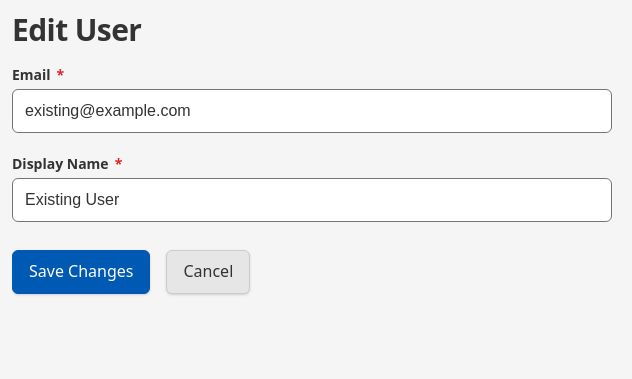
Test case: UserEditPage › displays validation error on update failure (400)
Note: Update email
Replace the text in the field labelled "Email *" with "duplicate@example.com" at (312, 111), box [12,89,612,133]
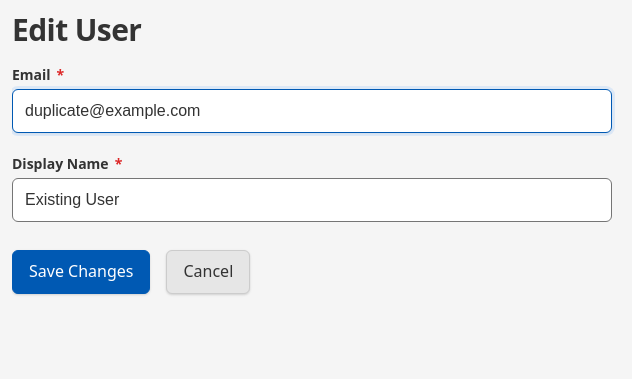
Note: Submit the form
Click the button "Save Changes".
click(81, 272)  # box [12,250,150,294]
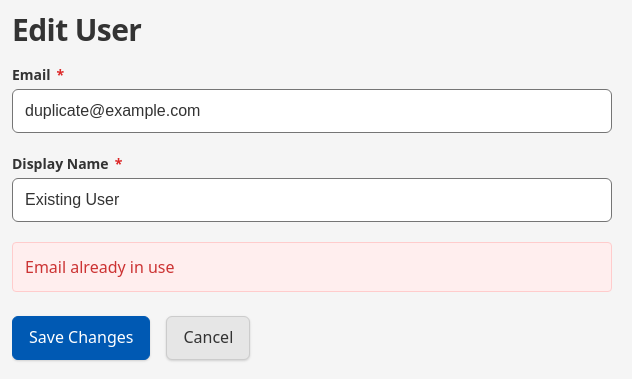
Result: the text "Email already in use" is shown at [12,242,612,292]
